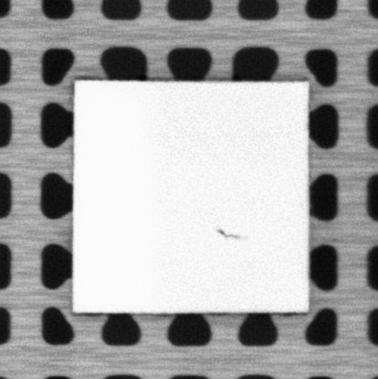DIE_INK: (215, 226, 246, 242)
